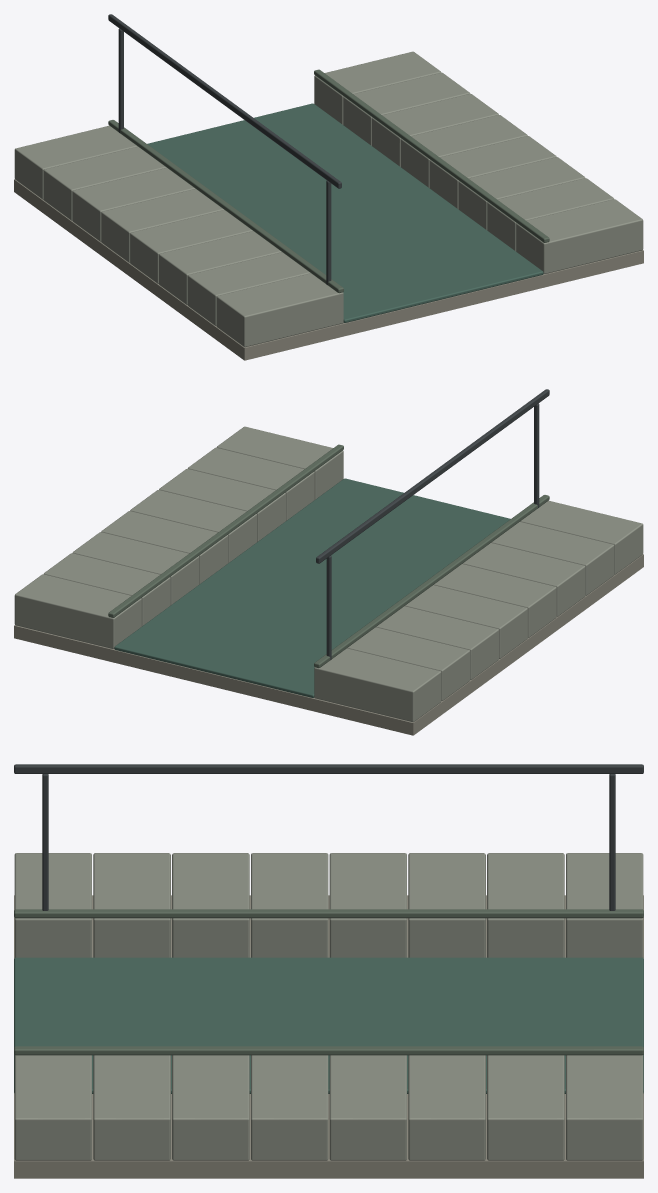
Rendered from undercity-sewers-and-thieves-den-ledge-railed-c8e0edfb__25031.glb.
3 renders of one model, top to bottom at view 1: azimuth 30°, elevation 25°; view 2: azimuth 150°, elevation 25°; view 3: azimuth 270°, elevation 25°, orthographic. The views are drawn at different scales.
Parts seen in each view (by area): view 1: ledge-railed; view 2: ledge-railed; view 3: ledge-railed.
Part boxes in pixels (x1,y1,x2,y2): ledge-railed: (14, 14, 643, 360); ledge-railed: (14, 389, 643, 735); ledge-railed: (14, 764, 643, 1178).
Bounding box in the file's own units: 4 × 1.48 × 4.
